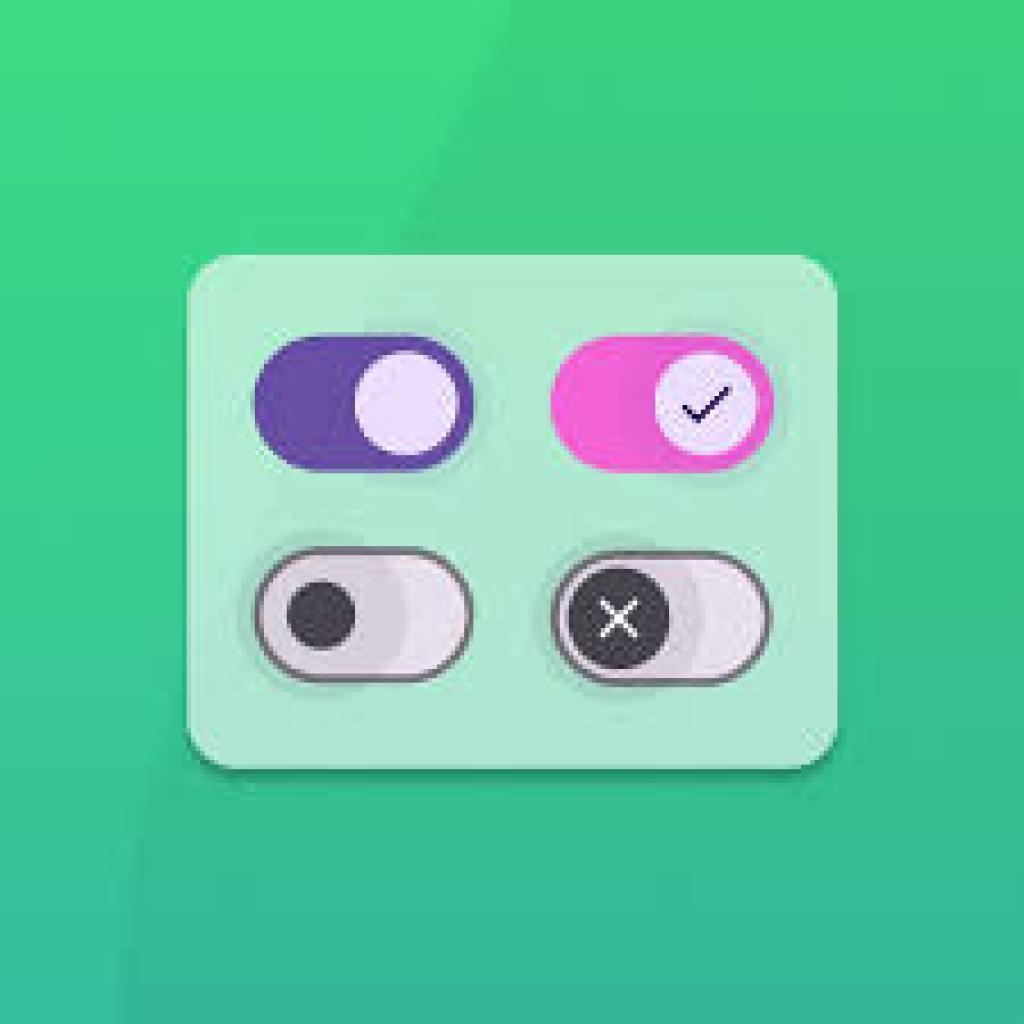switch: (252, 336, 479, 472), (553, 338, 775, 474), (552, 550, 771, 685), (254, 552, 475, 683)
